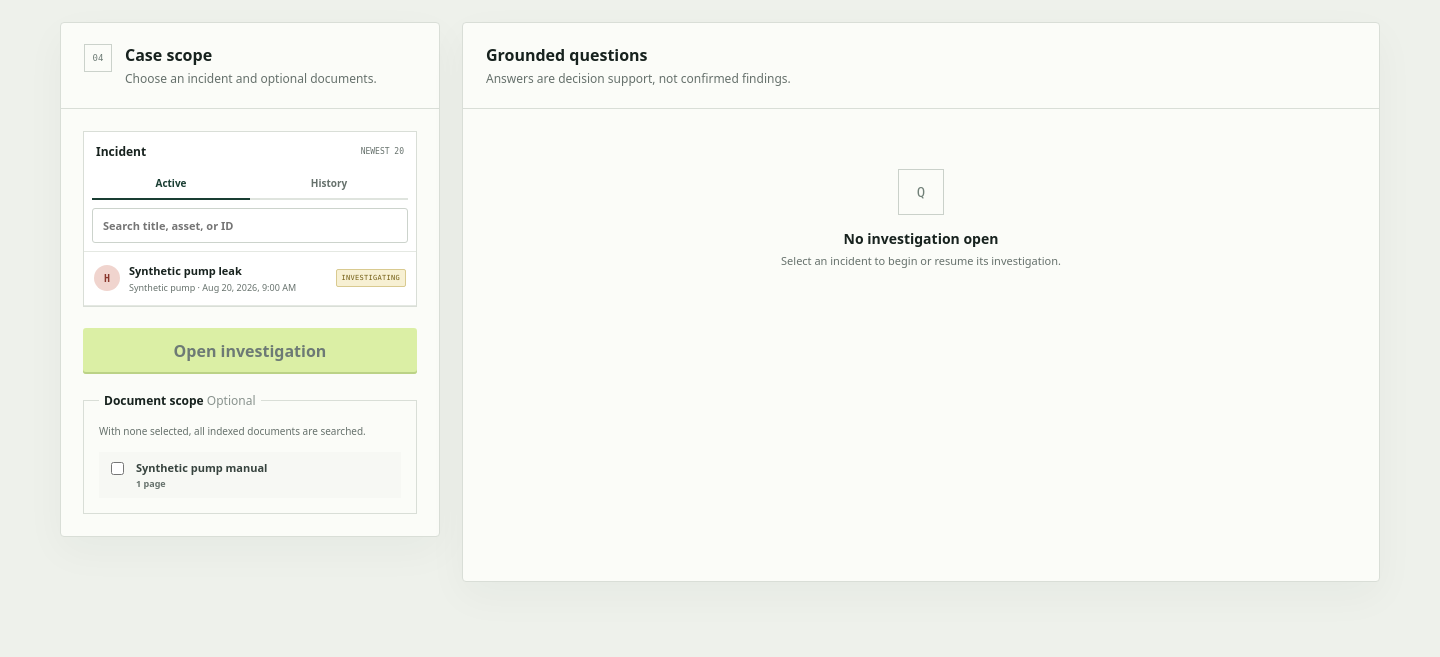
Investigation workspace › identifies the model whose response was rejected
Click the button with aria-label "Select Synthetic pump leak incident" at (250, 278), box 84,252 -> 416,305
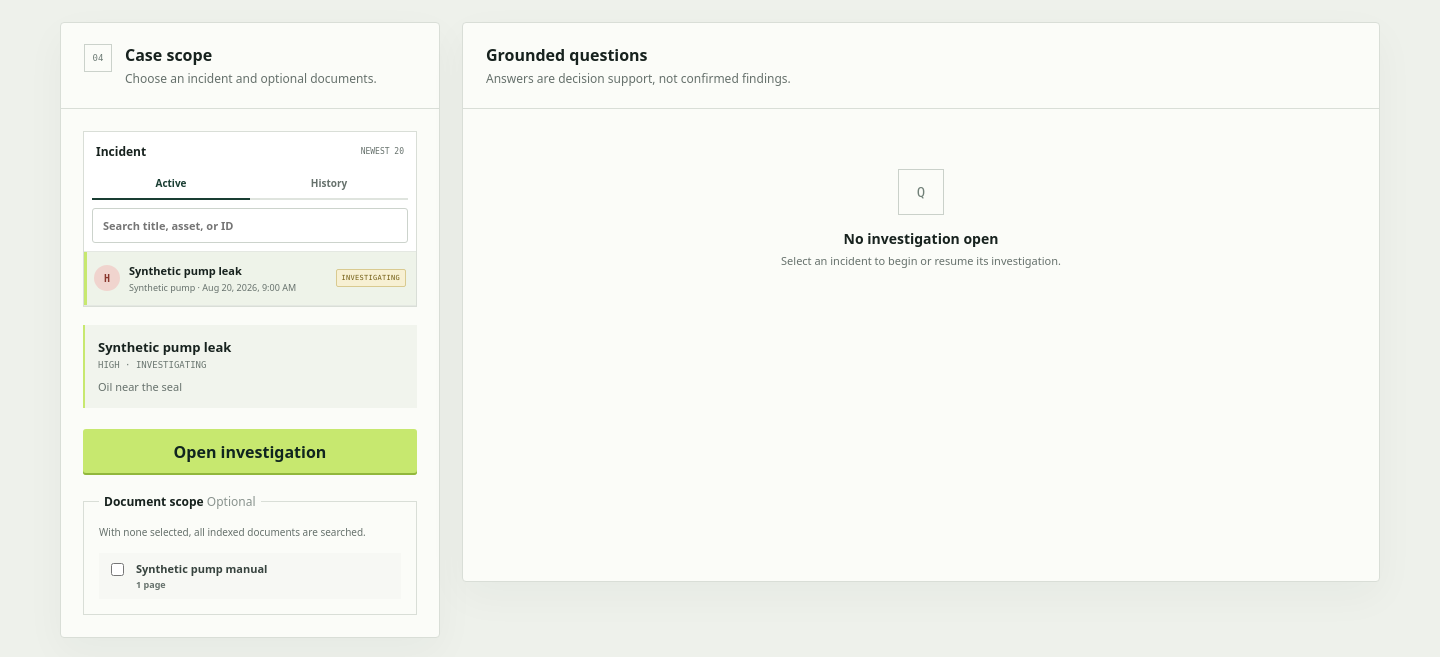
Click the button "Open investigation" at (250, 452), box 83,429 -> 417,475
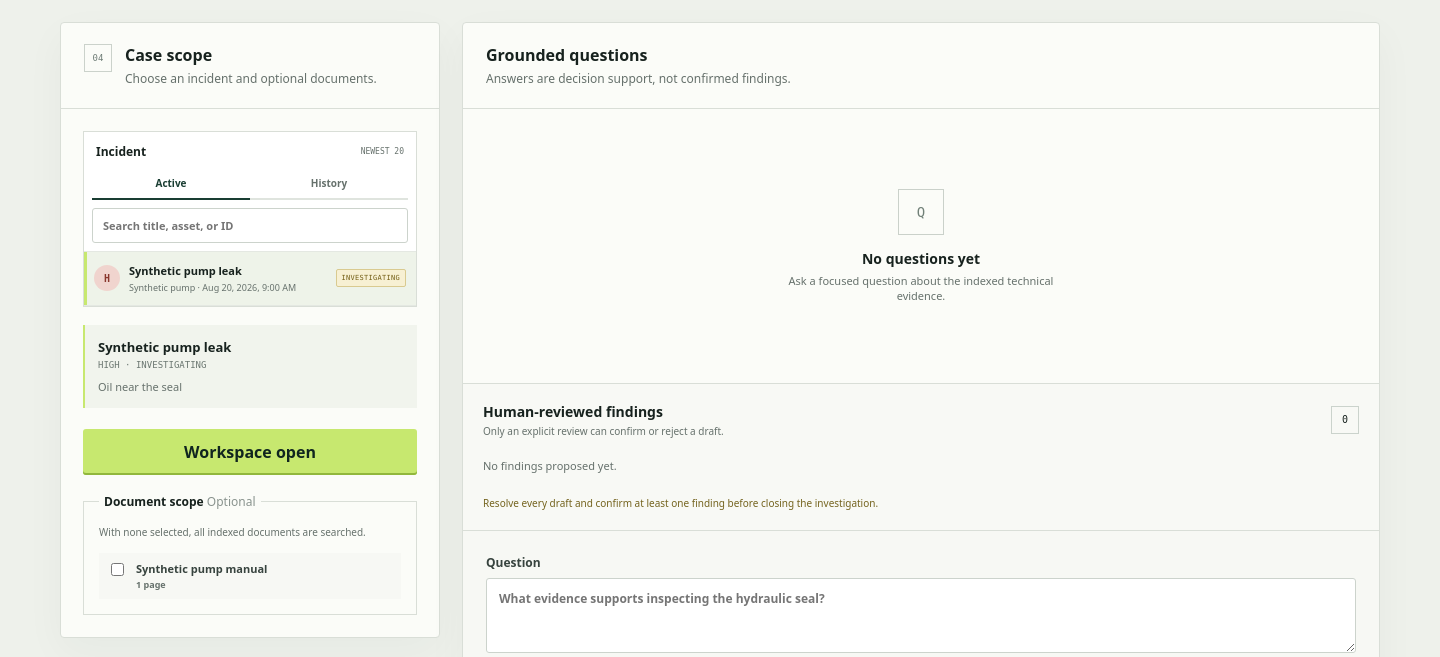
Expected: the heading "No questions yet" is shown, 862,249 -> 980,268
Type "Is it fixable?" into the text box labelled "Question" at (921, 615), box 486,578 -> 1356,653
(page scrolled)
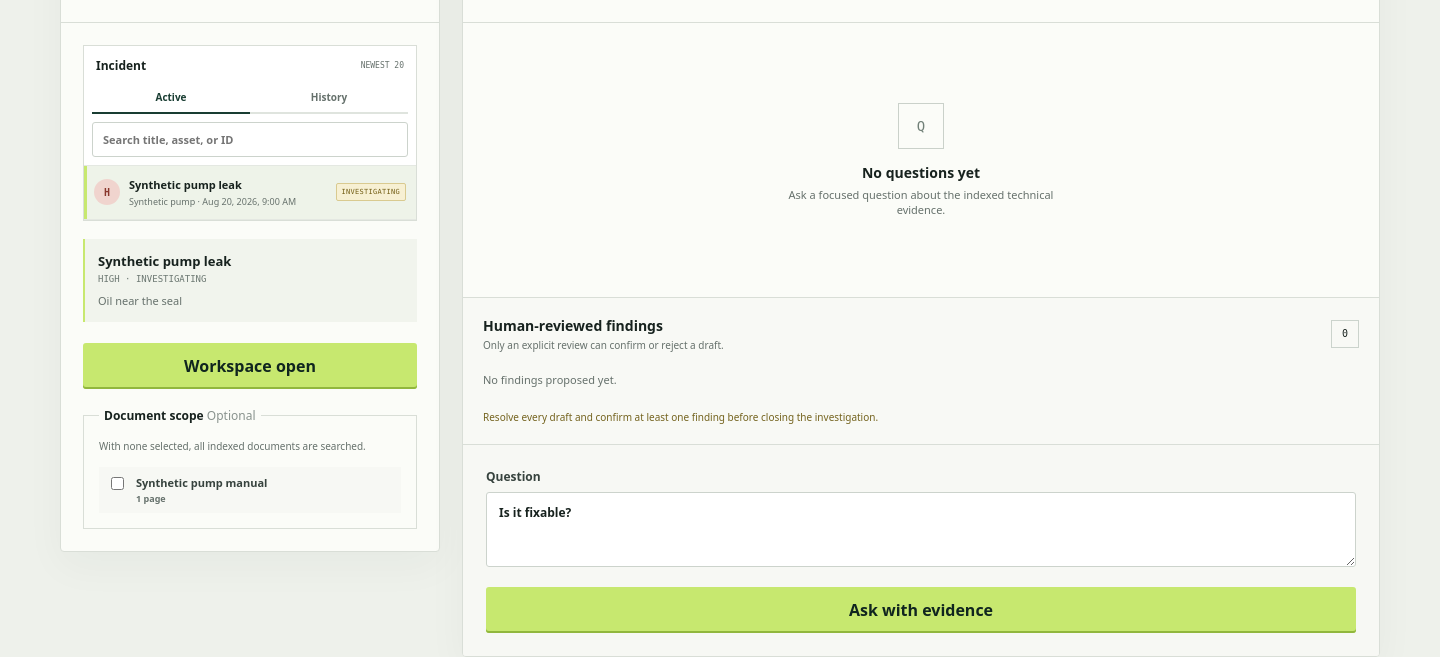
Click the button "Ask with evidence" at (921, 610), box 486,587 -> 1356,633
(page scrolled)
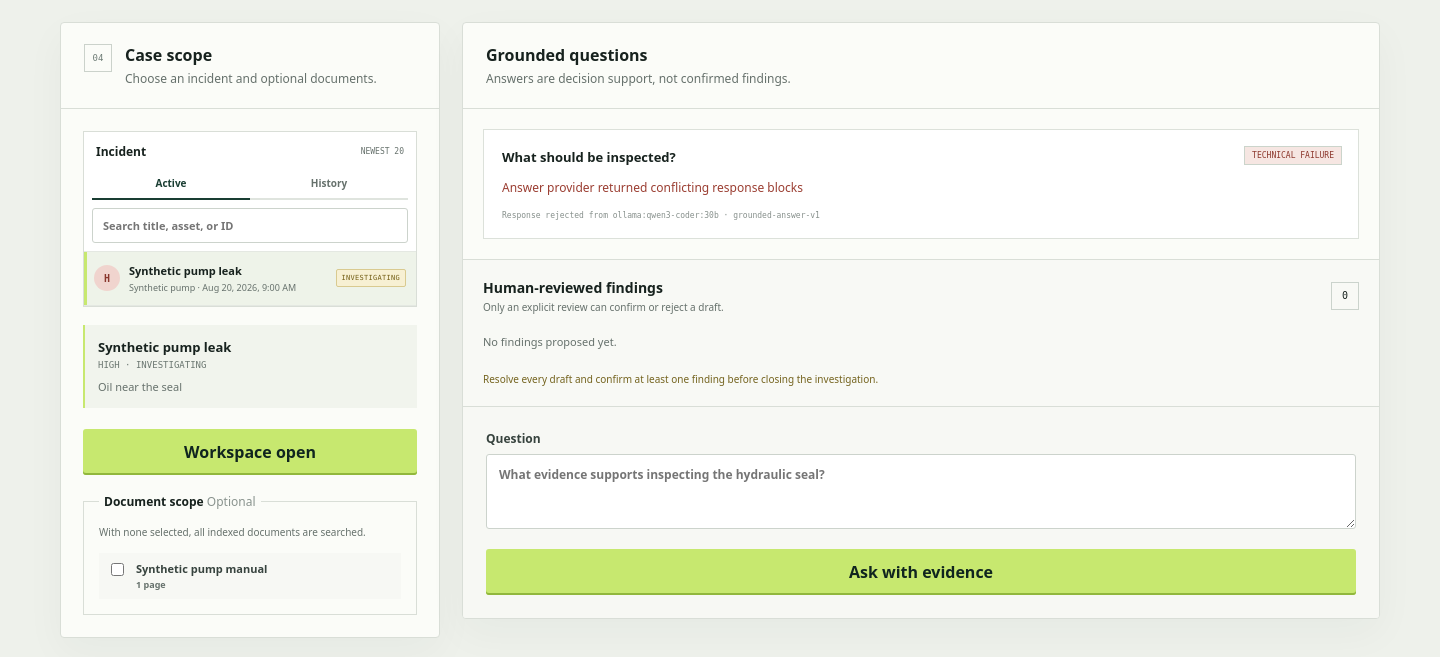
Expected: the text "Answer provider returned conflicting response blocks" is shown, 502,179 -> 803,196
Expected: the text "Response rejected from ollama:qwen3-coder:30b" is shown, 502,211 -> 719,220
